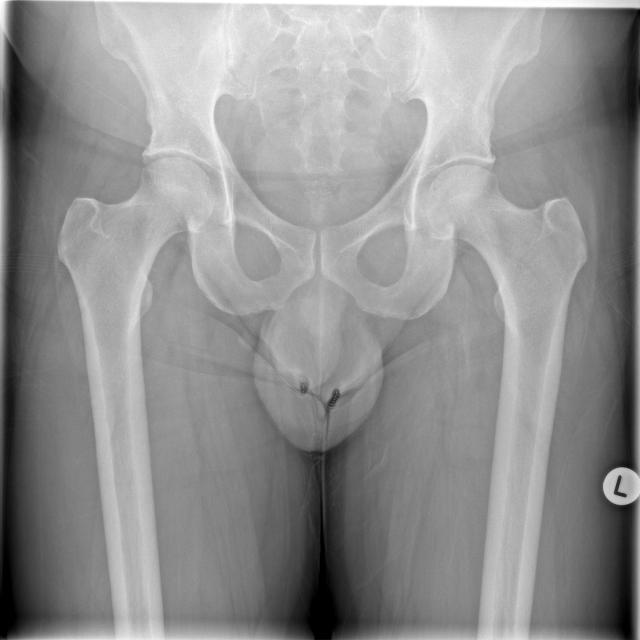normal-left: (427, 165, 587, 428)
normal-right: (58, 157, 212, 406)
